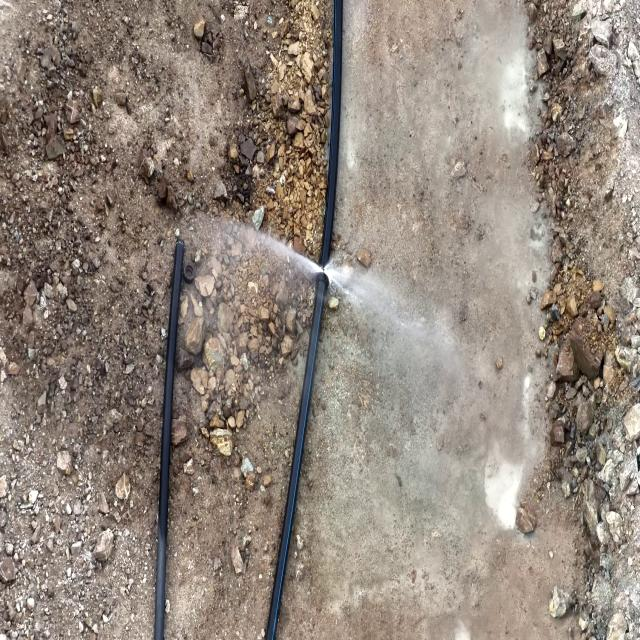leak: (239, 214, 386, 308)
